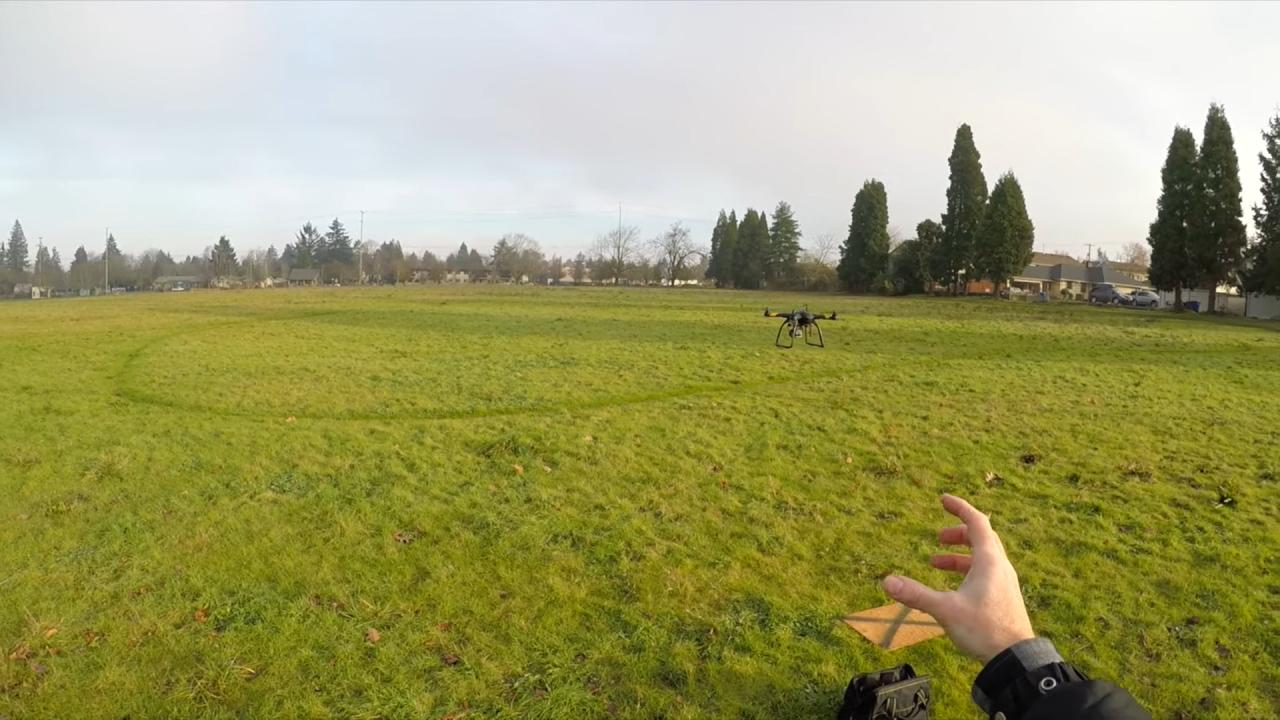Drone: (754, 299, 853, 361)
